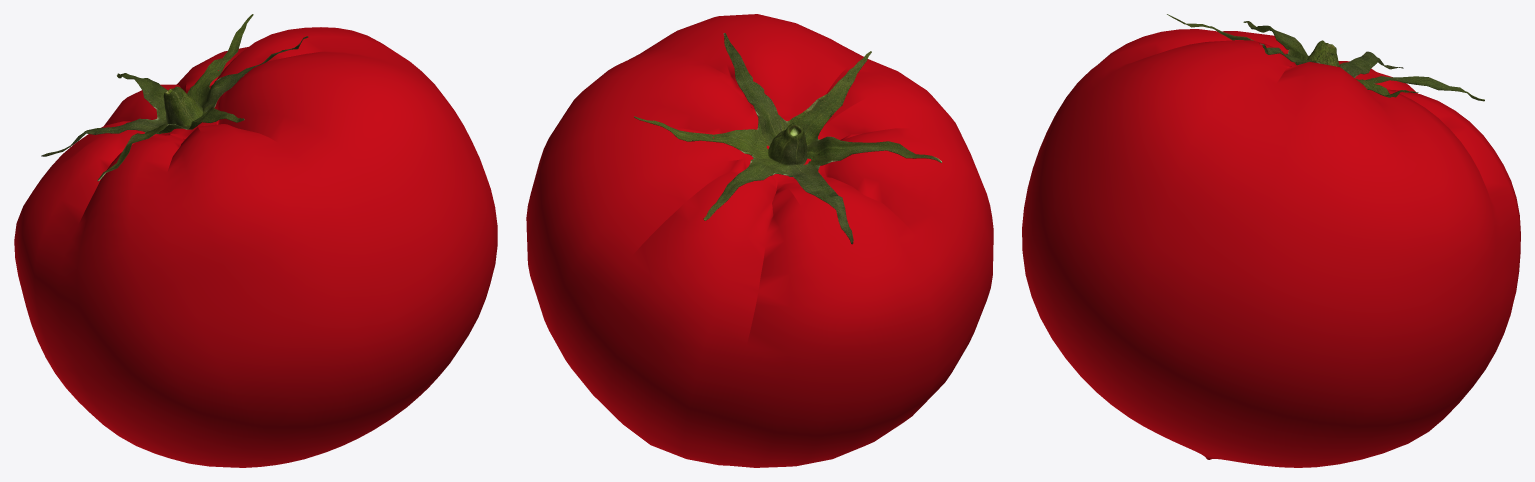
Rendered from Tomato.fbx.
The picture shows the model from 3 angles, left to right: view 1: azimuth 30°, elevation 25°; view 2: azimuth 150°, elevation 25°; view 3: azimuth 270°, elevation 25°; orthographic projection. The views are drawn at different scales.
Visible parts, largest first — view 1: 6_Tomato; view 2: 6_Tomato; view 3: 6_Tomato.
Part boxes in pixels (left/top/right/bottom): 6_Tomato: left=14, top=14, right=497, bottom=467; 6_Tomato: left=526, top=14, right=993, bottom=467; 6_Tomato: left=1022, top=14, right=1520, bottom=467.
Bounding box in the file's own units: 11.52 × 10.79 × 11.4.
